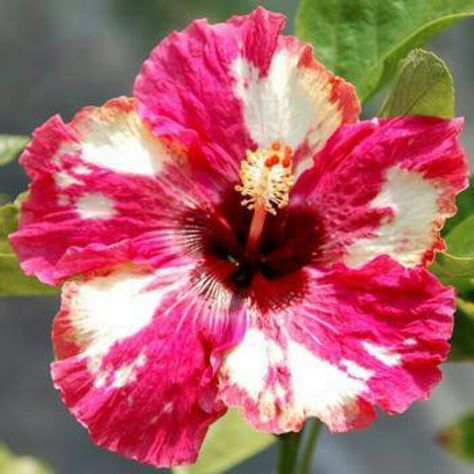Hibiscus: (16, 32, 455, 461)
